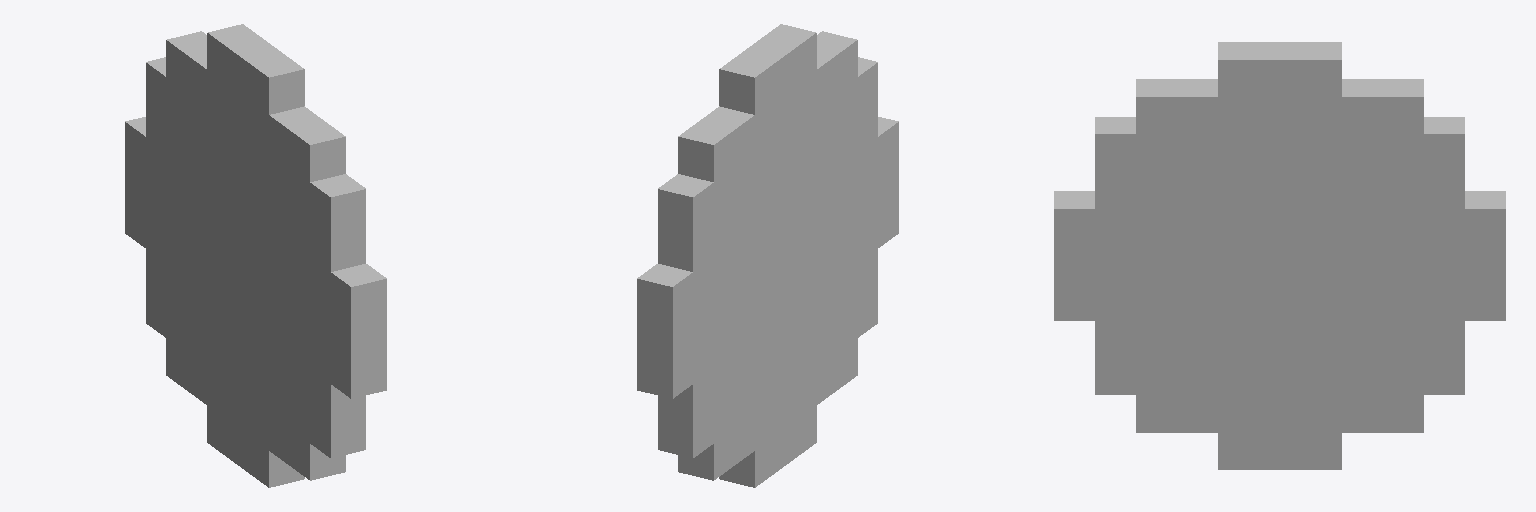
File: coin.obj
The picture shows the model from 3 angles: view 1: azimuth 30°, elevation 25°; view 2: azimuth 150°, elevation 25°; view 3: azimuth 270°, elevation 25°; orthographic projection.
Size of the model in its own units: 1 by 11 by 11.